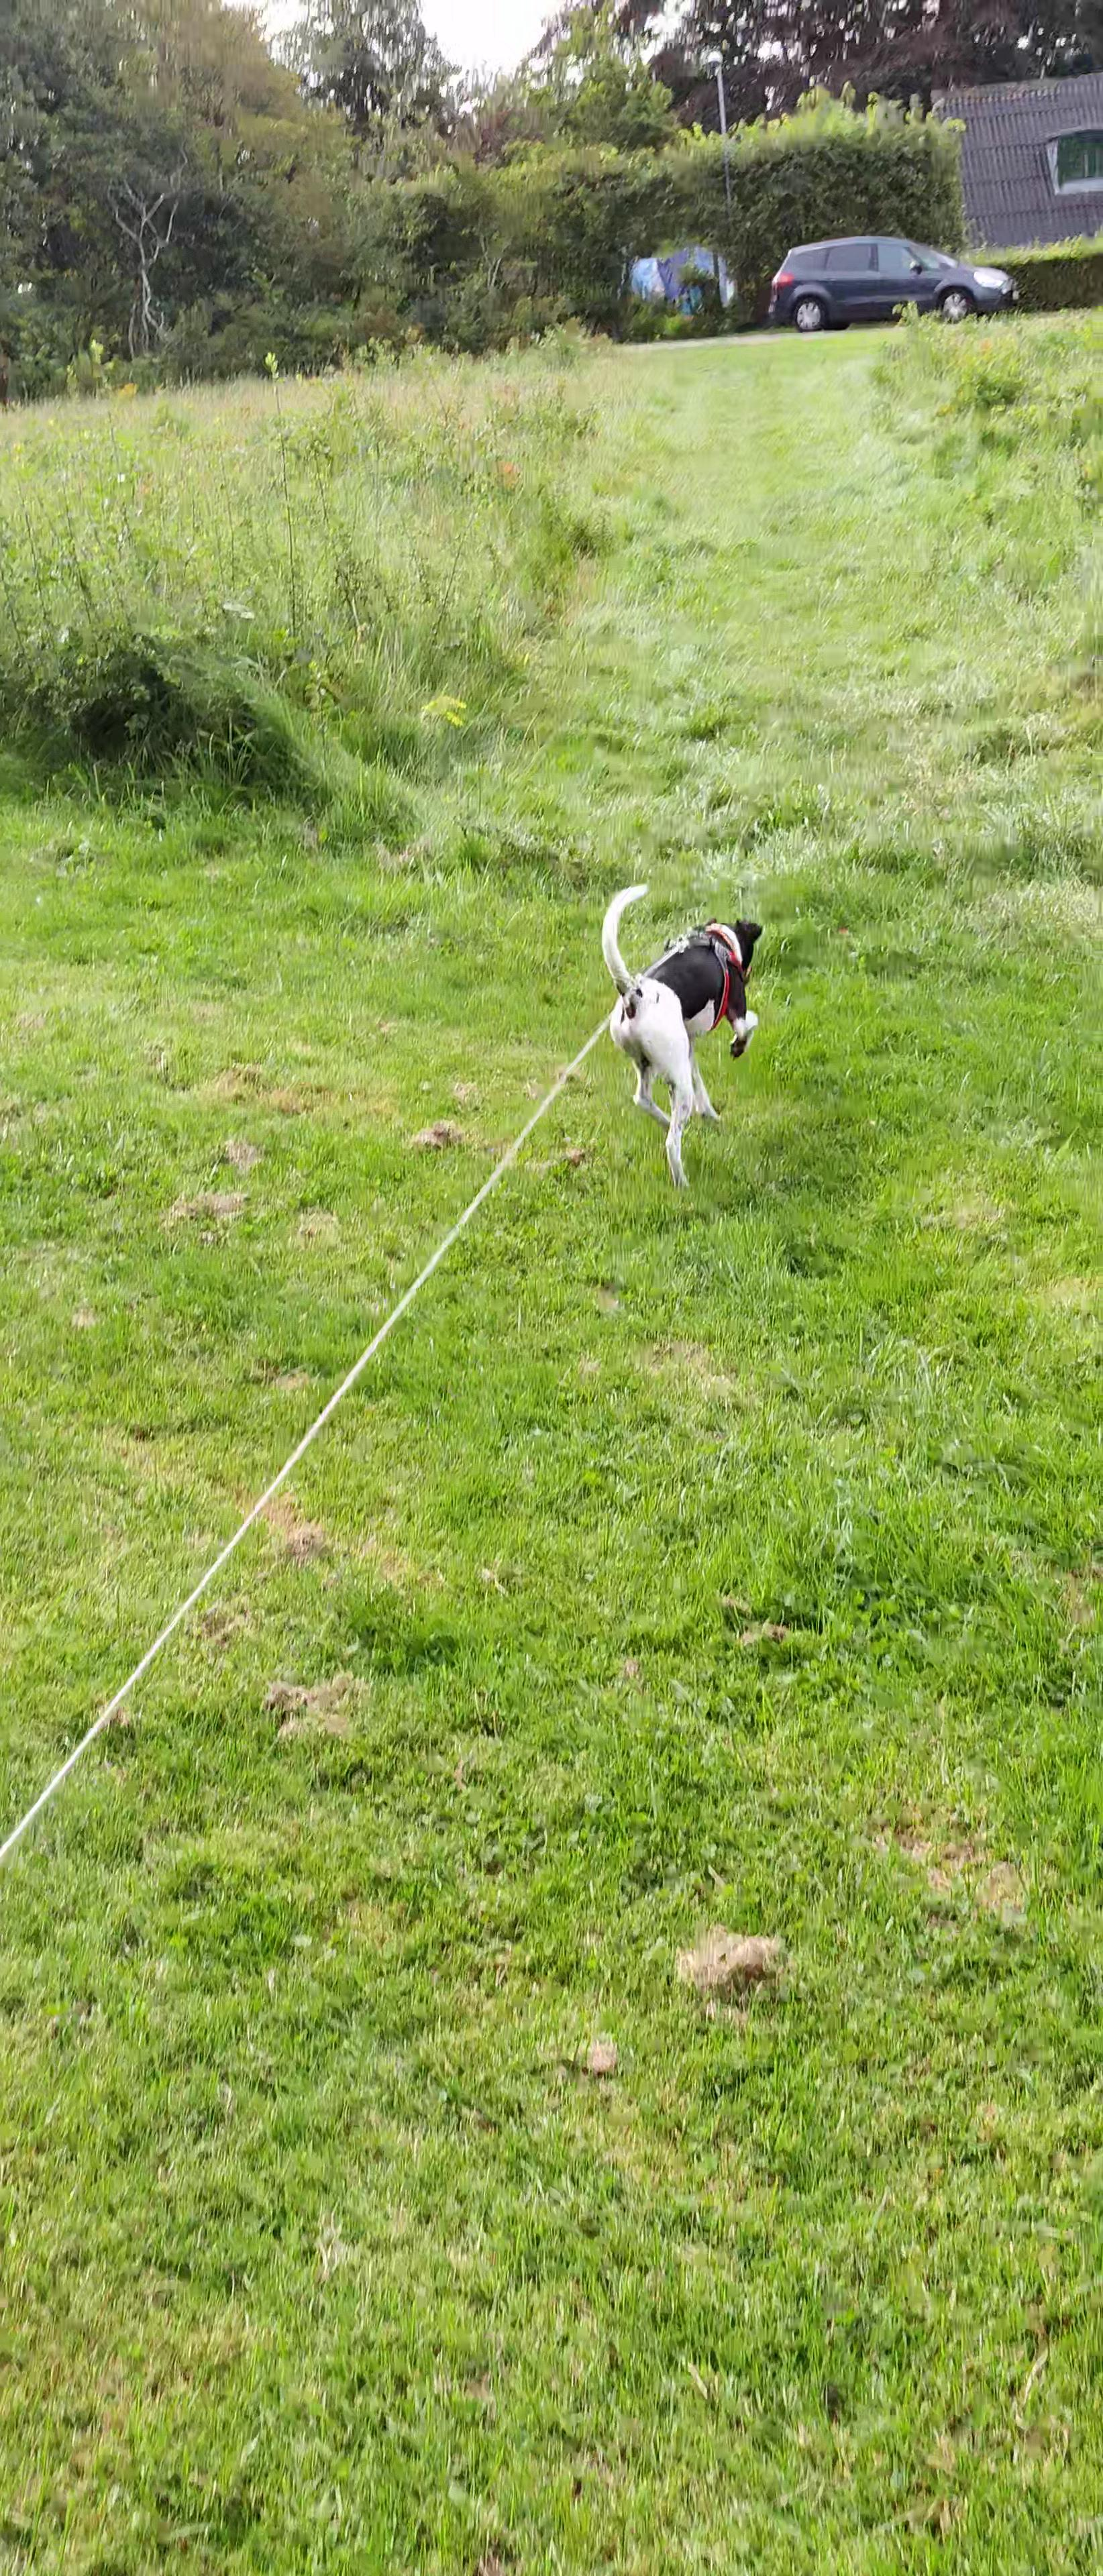Dog: (582, 866, 779, 1194)
